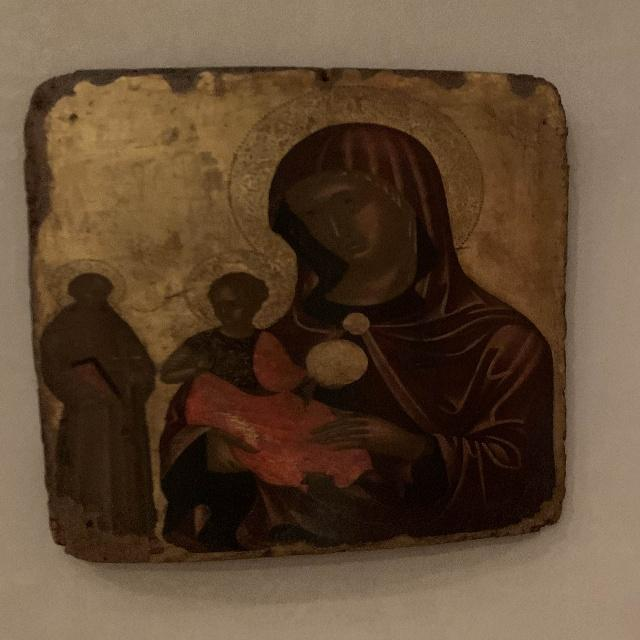aura: (225, 85, 502, 278), (186, 252, 295, 326), (46, 258, 132, 313)
christ_kid: (161, 248, 389, 520)
mary: (217, 86, 522, 529)
st_francis_assis: (35, 253, 158, 548)
